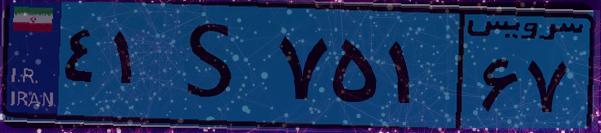1: (385, 28, 445, 110), (110, 28, 158, 98)
4: (57, 26, 110, 100)
5: (330, 28, 385, 110)
6: (475, 38, 525, 113)
7: (270, 28, 330, 110), (525, 38, 570, 115)
S: (158, 12, 270, 120)
